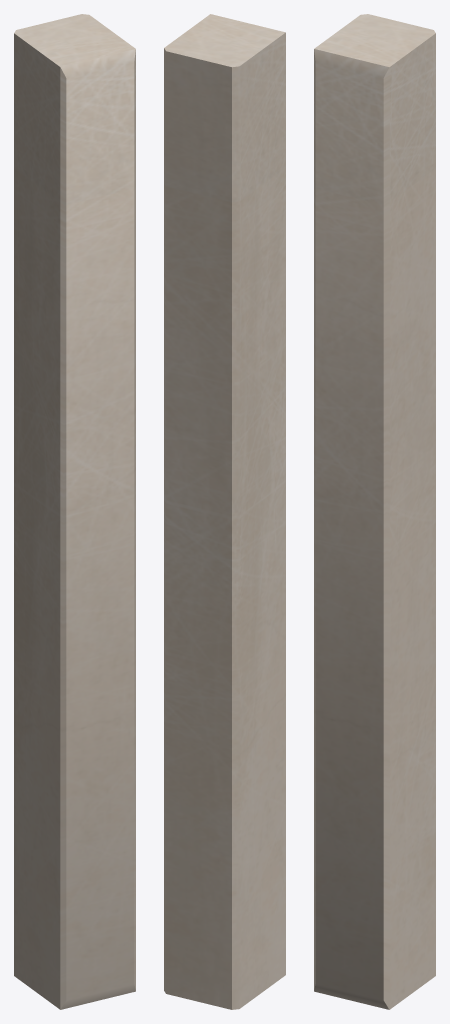
File: mallbil_3x4_1_pile.fbx
3 views of the same model, side by side, from view 1: azimuth 30°, elevation 25°; view 2: azimuth 150°, elevation 25°; view 3: azimuth 330°, elevation 25° (orthographic).
Parts seen in each view (by area): view 1: ms3x4_1_pile; view 2: ms3x4_1_pile; view 3: ms3x4_1_pile.
Part boxes in pixels (x1,y1,x2,y2): ms3x4_1_pile: (14, 14, 135, 1009); ms3x4_1_pile: (164, 14, 285, 1009); ms3x4_1_pile: (314, 14, 435, 1009).
Bounding box in the file's own units: 31.26 × 373 × 36.82.
